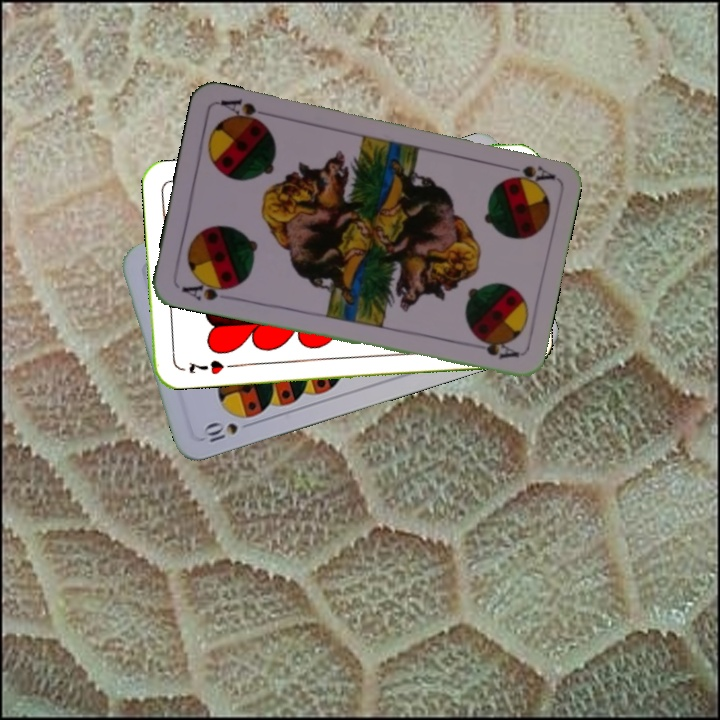H7: (184, 356, 227, 377)
S10: (199, 418, 257, 445)
SA: (177, 275, 237, 304), (498, 160, 557, 185)
